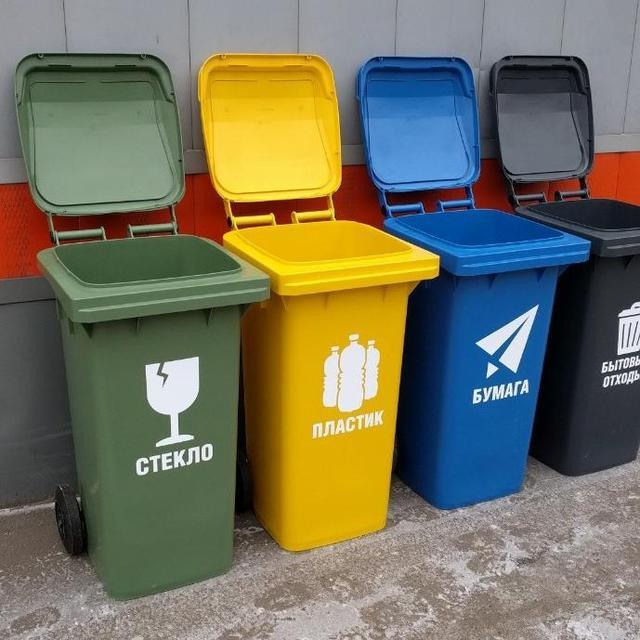Trash_Can_Empty: (35, 231, 270, 600), (223, 220, 441, 552), (384, 206, 592, 511), (514, 195, 640, 475)
